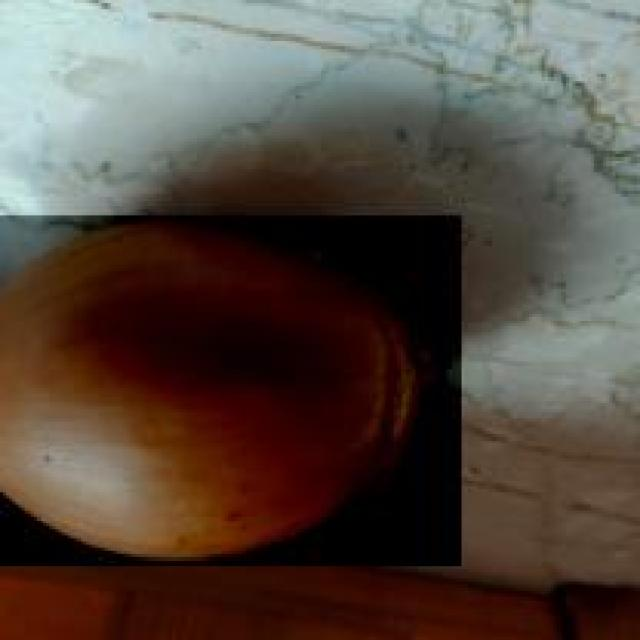onion: (0, 212, 462, 566)
